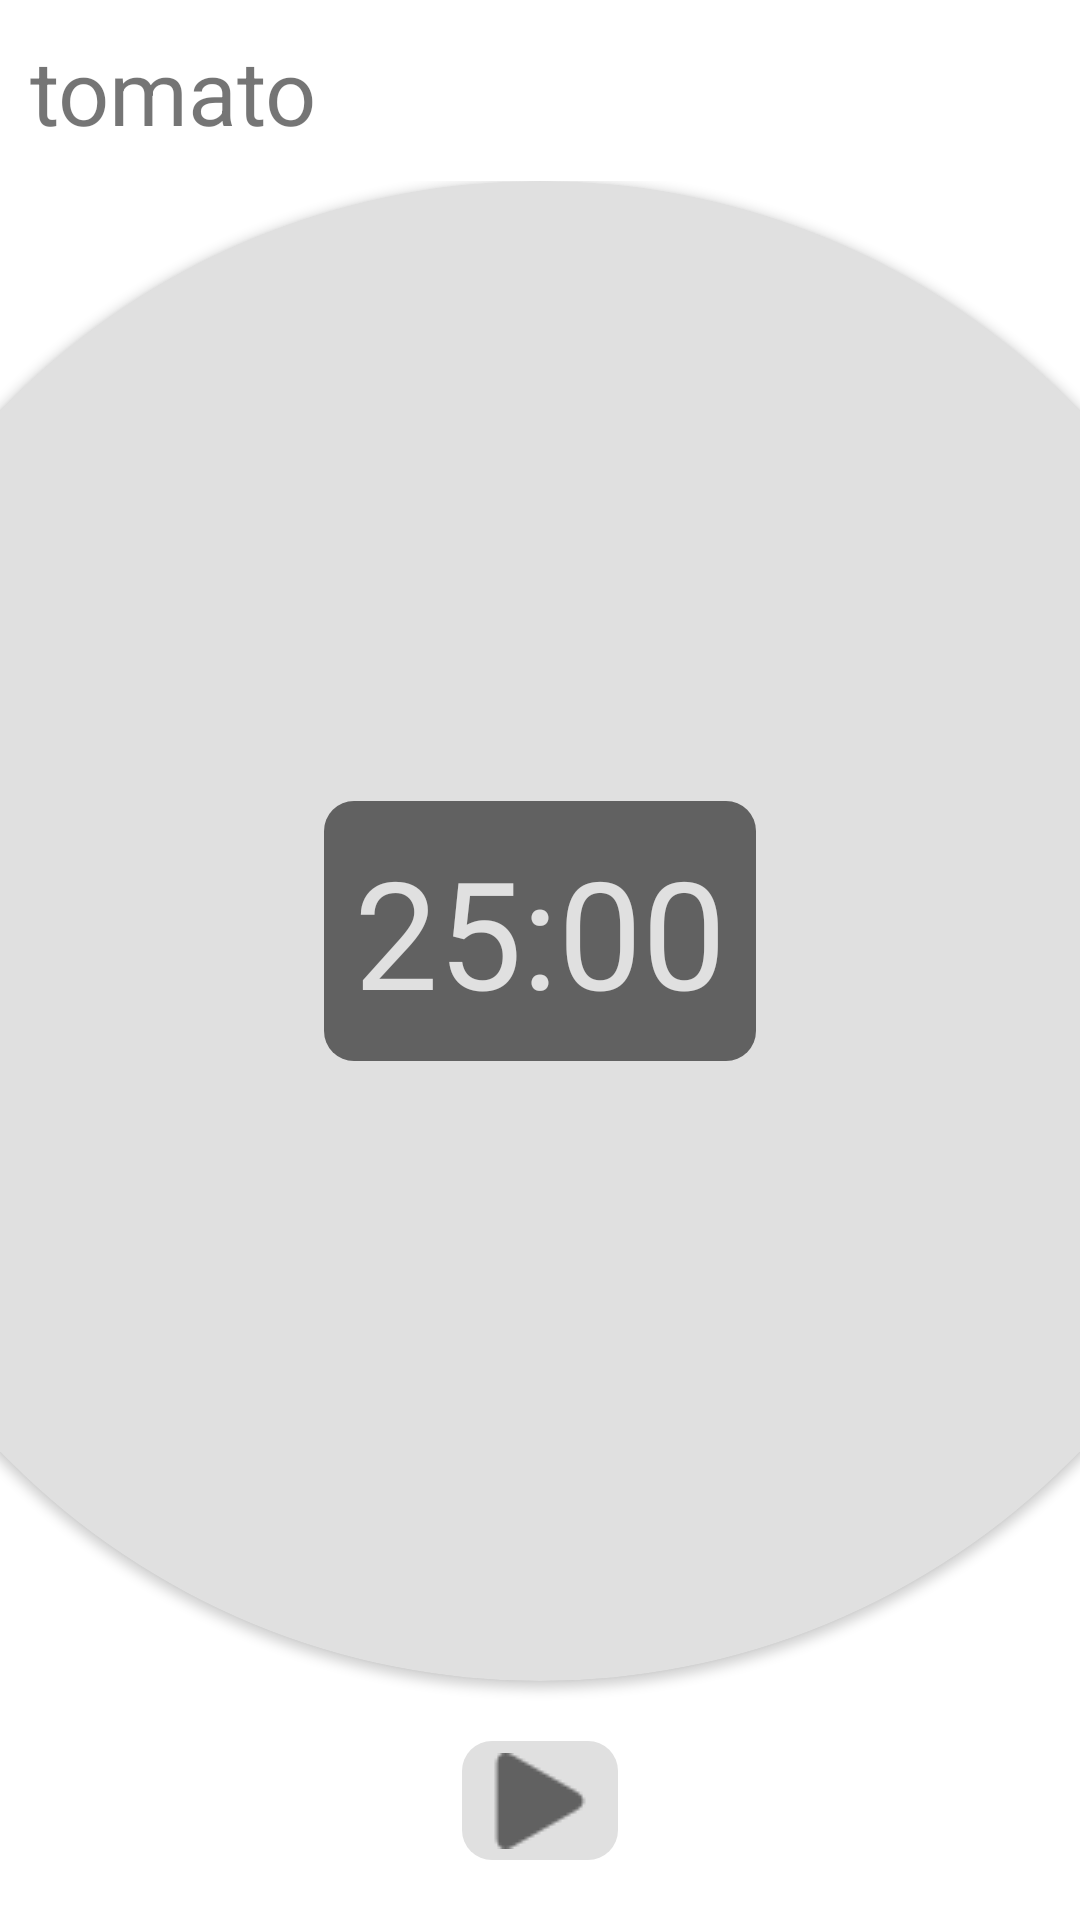

Point at icon controls on the screen. Image size 1080×1920, points as (x,y).
play: (540,1800)
